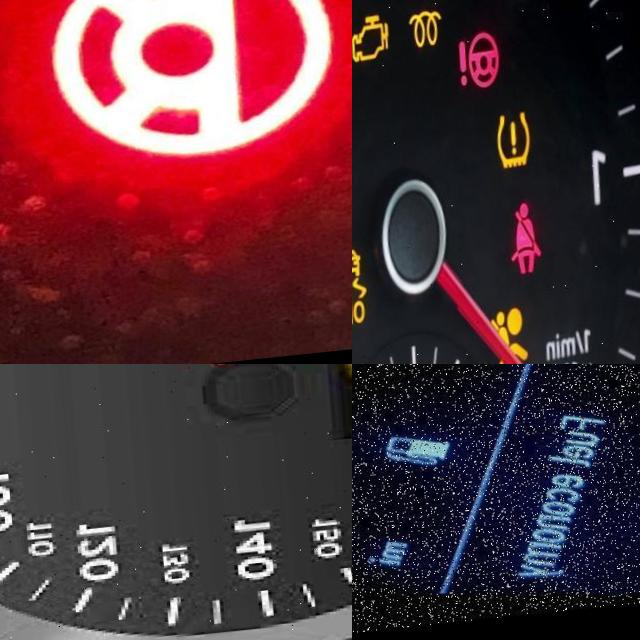Electronic Power Steering: (34, 0, 321, 172)
Electronic Power Steering Warning: (449, 33, 503, 100)
Seat Belt: (497, 208, 545, 285)
